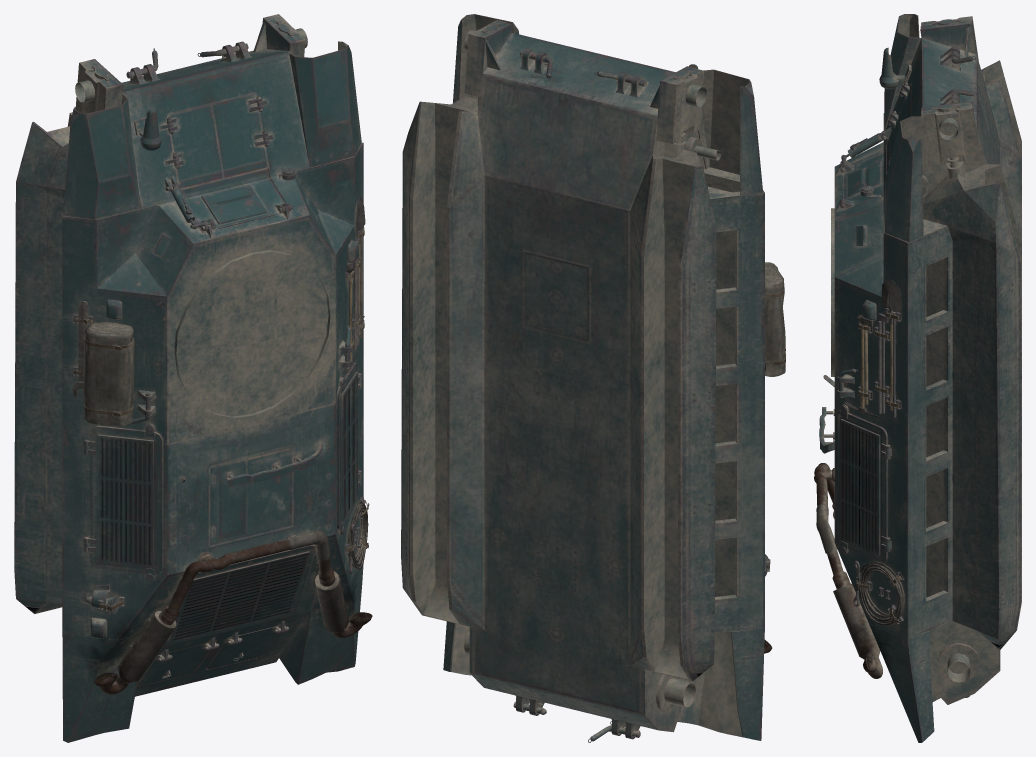
File: Hull.glb
3 views of the same model, side by side, from view 1: azimuth 30°, elevation 25°; view 2: azimuth 150°, elevation 25°; view 3: azimuth 270°, elevation 25° (orthographic). The views are drawn at different scales.
Parts seen in each view (by area): view 1: set_0_group_0; view 2: set_0_group_0; view 3: set_0_group_0.
Boxes of the visible parts, x1,y1,x2,y2 form: set_0_group_0: (14, 14, 372, 742); set_0_group_0: (401, 14, 785, 742); set_0_group_0: (814, 14, 1021, 742).
Bounding box in the file's own units: 2.14 × 4.36 × 1.34.
Materials: 1 (1 with a texture image).
